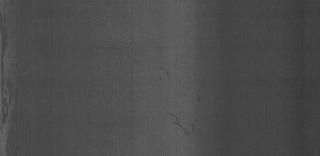water spot: (168, 109, 208, 141)
